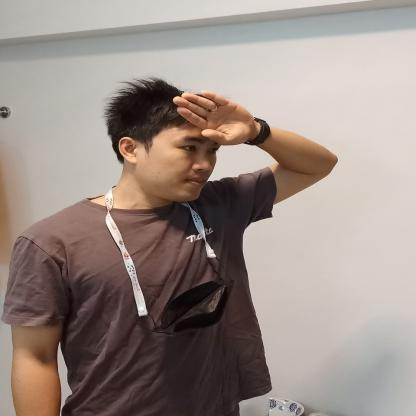Sick: (90, 74, 294, 172)
